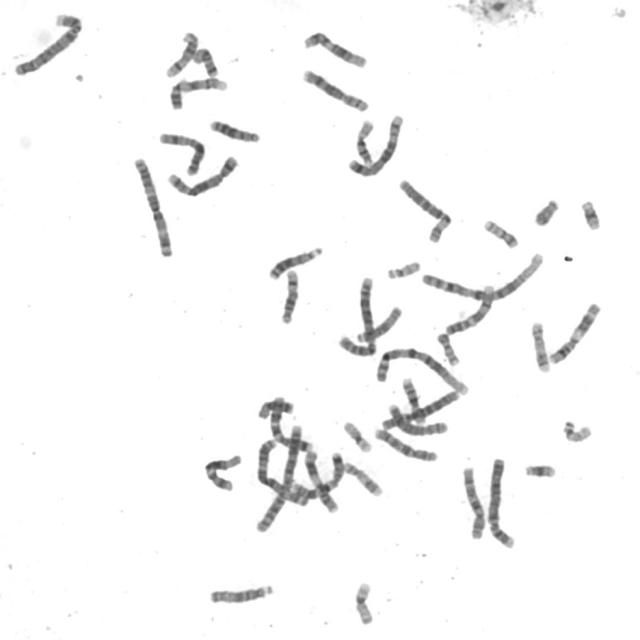A1: (418, 246, 547, 302), (372, 342, 470, 397)
A2: (252, 421, 306, 534), (334, 273, 381, 358)
A3: (130, 152, 177, 258), (253, 433, 314, 509)
B4: (10, 8, 86, 78), (485, 454, 518, 550)
B5: (345, 109, 407, 178), (164, 152, 241, 198)
C10: (371, 423, 440, 463), (459, 461, 488, 541)
C11: (546, 297, 604, 366), (300, 446, 342, 514)
C12: (300, 26, 371, 69), (201, 449, 244, 493)
C6: (396, 174, 456, 243), (379, 386, 462, 431)
C7: (266, 391, 314, 454), (296, 447, 345, 508)
C8: (298, 64, 372, 112), (382, 399, 452, 436)
C9: (441, 278, 497, 336), (167, 73, 230, 110)
D13: (264, 241, 326, 282), (206, 114, 262, 144)
D14: (162, 26, 201, 79), (277, 264, 302, 325)
D15: (350, 300, 404, 343), (206, 580, 277, 606)
E16: (398, 372, 429, 425), (351, 114, 377, 166)
E17: (340, 457, 386, 498), (527, 316, 554, 374)
E18: (189, 43, 221, 78), (254, 396, 296, 420)
F19: (350, 578, 378, 626), (340, 416, 375, 454)
F20: (479, 214, 522, 249), (433, 328, 462, 366)
G21: (577, 195, 604, 231), (521, 458, 559, 480)
G22: (560, 416, 596, 444), (384, 256, 423, 280)
X: (156, 128, 208, 177)
Y: (531, 194, 562, 227)
